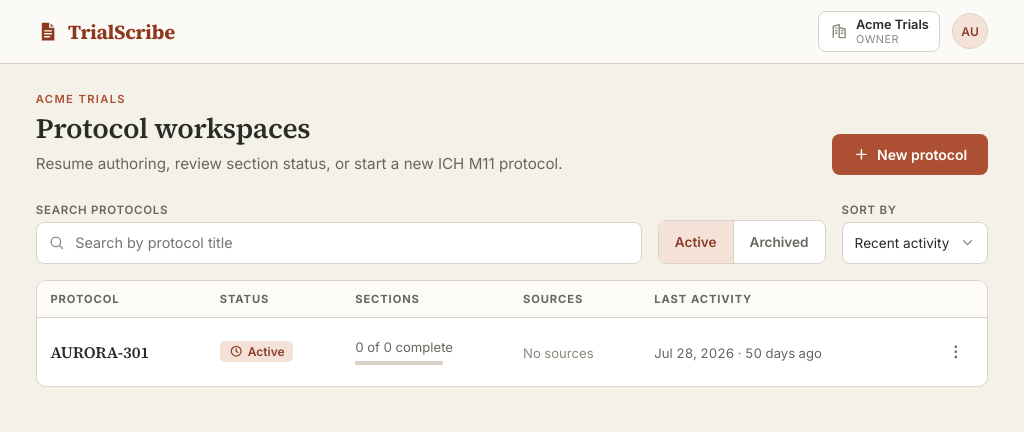
Scenario: ProtocolLibraryPage › keeps the toolbar when the archived tab is empty
Expected: the link "AURORA-301" is shown, [50,341,149,363]
Click the button "Archived": coordinates (778, 242) [732,221,824,262]
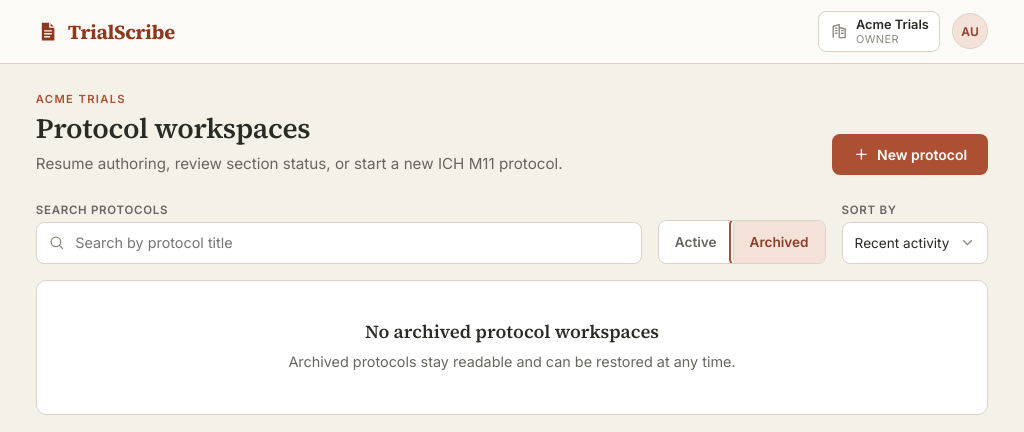
Expected: the search field labelled "Search protocols" is shown, [36,222,642,264]
Expected: the heading "No archived protocol workspaces" is shown, [365,320,659,344]
Click the button "Active": coordinates (696, 242) [659,221,732,262]
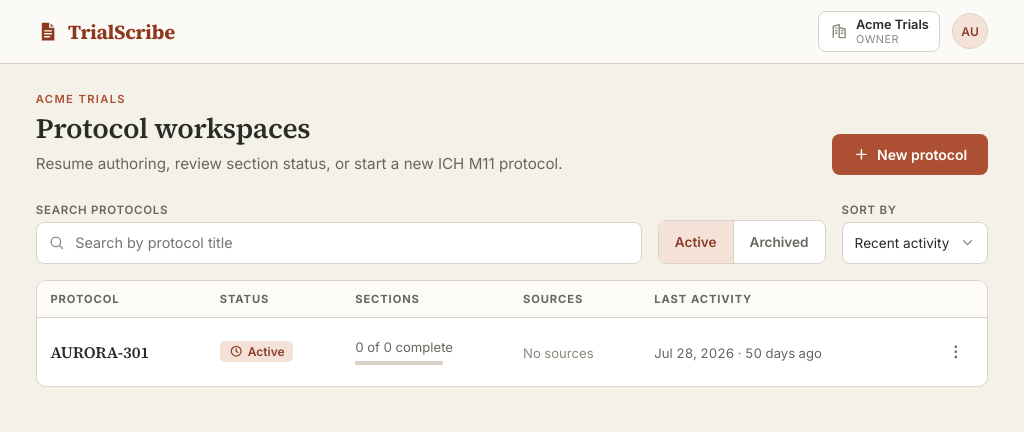
Expected: the link "AURORA-301" is shown, [50,341,149,363]
